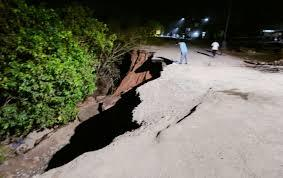Pothole: (21, 46, 174, 178)
